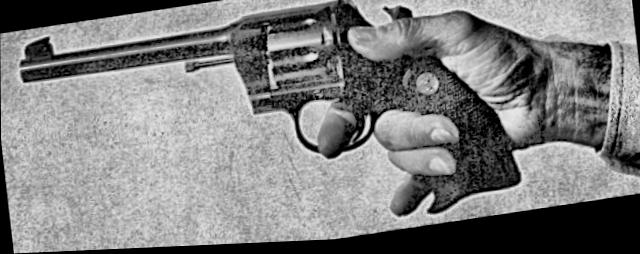pistol: (19, 0, 531, 253)
